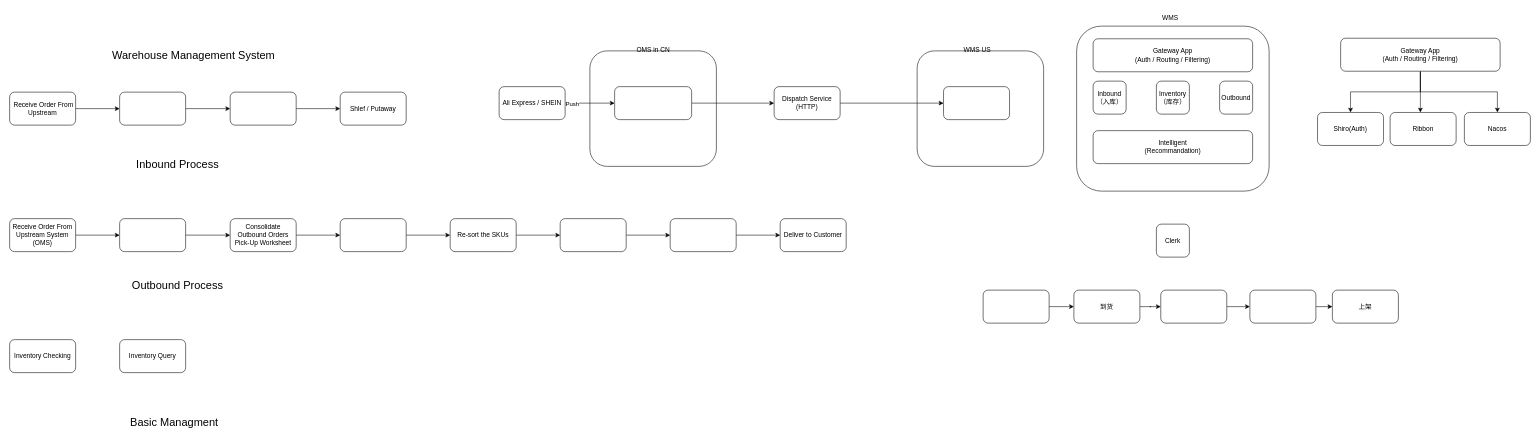
Image size: 1540x442. Some labels were removed from this diagram. The centre of each missing label's shape, as x and y in pixels:
"Check Goods Quality" belongs at pixel 263 108.
"Dispatch Goods" belongs at pixel 703 235.
"Match Inventory" belongs at pixel 152 235.
"Package" belongs at pixel 593 235.
"Pick Up SKU one by One" belongs at pixel 373 235.
"Receive Goods" belongs at pixel 152 108.
"Receive Order From E-Commence Platform" belongs at pixel 653 103.
"Receive Order From OMS" belongs at pixel 976 103.
"收货" belongs at pixel 1193 306.
"查验" belongs at pixel 1282 306.
"预约" belongs at pixel 1016 306.
